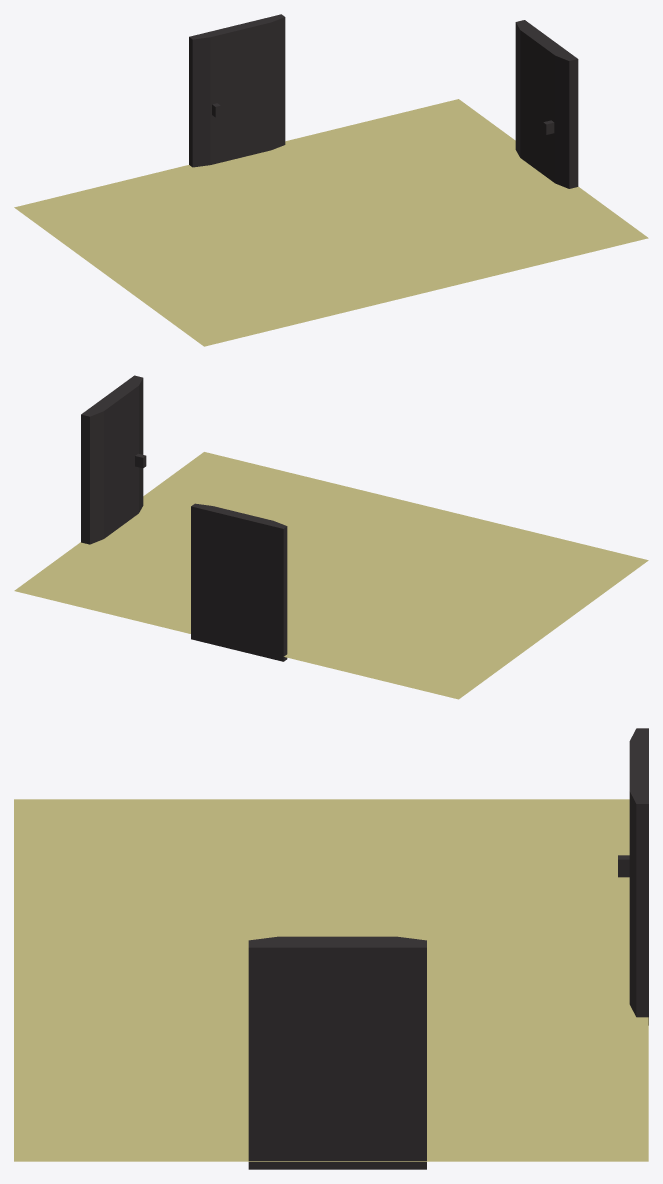
File: ByakkoStage4.11.fbx
The picture shows the model from 3 angles, top to bottom: view 1: azimuth 30°, elevation 25°; view 2: azimuth 150°, elevation 25°; view 3: azimuth 270°, elevation 25°; orthographic projection. The views are drawn at different scales.
Parts seen in each view (by area): view 1: Plane.048, Plane.049; view 2: Plane.048, Plane.049; view 3: Plane.048, Plane.049.
Part boxes in pixels (bbox=[...]): Plane.048: bbox=[14, 99, 648, 346]; Plane.049: bbox=[189, 14, 578, 188]; Plane.048: bbox=[14, 452, 648, 699]; Plane.049: bbox=[81, 375, 287, 661]; Plane.048: bbox=[14, 799, 648, 1161]; Plane.049: bbox=[248, 728, 648, 1169].
Bounding box in the file's own units: 34.3 × 9.8 × 25.42.
